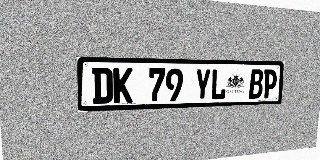7: (147, 68, 166, 102)
9: (166, 68, 183, 102)
B: (248, 69, 264, 99)
D: (92, 68, 113, 104)
K: (113, 68, 133, 103)
L: (210, 69, 227, 100)
P: (262, 69, 277, 98)
Y: (194, 69, 211, 101)
